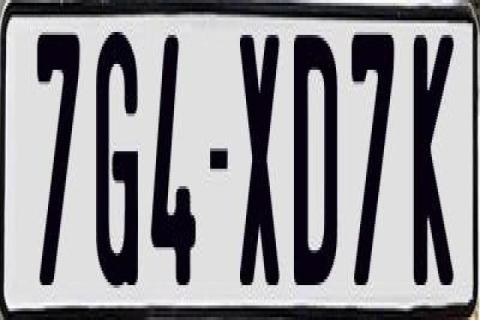0: (150, 29, 200, 291), (350, 29, 400, 285), (34, 35, 76, 303)
D: (290, 32, 338, 294)
G: (93, 32, 142, 300)
K: (414, 32, 460, 285)
X: (238, 29, 286, 282)
